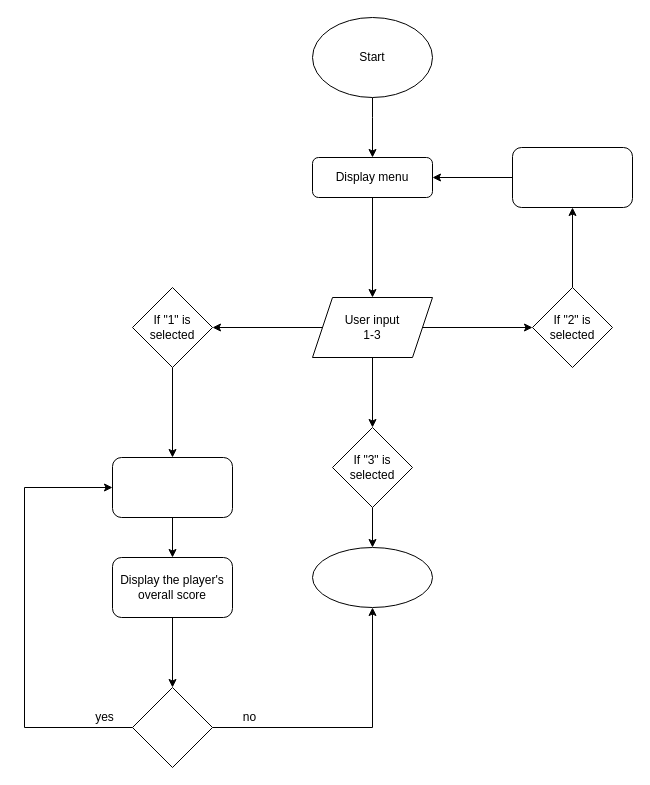
Image size: 650x785. Some labels were removed from this diagram. Each missing label, with the box of its shape:
Display Quiz rules: (512, 146, 632, 208)
play again: (132, 686, 212, 768)
Play Quiz and calculate scores: (112, 456, 232, 518)
stop: (312, 546, 432, 608)
